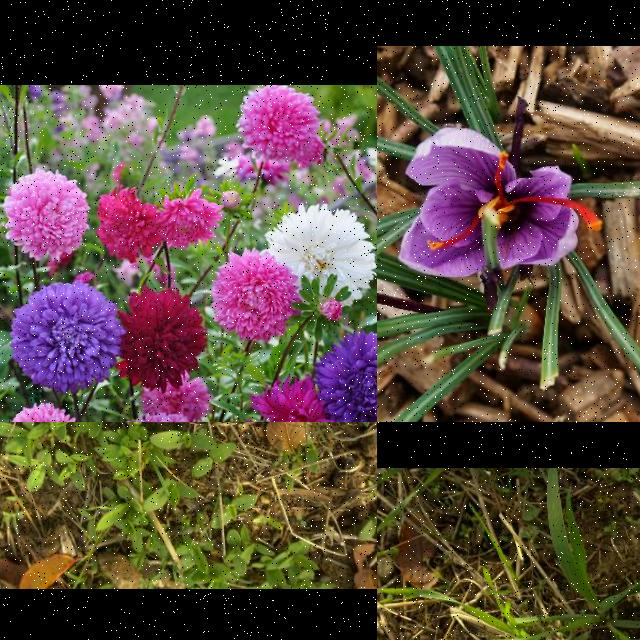flower: (400, 128, 602, 278)
